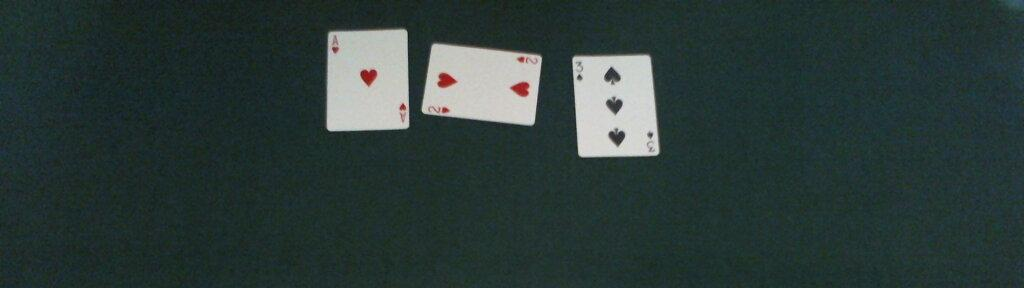ace: (325, 28, 408, 130)
three: (572, 54, 661, 157)
two: (419, 41, 543, 126)
